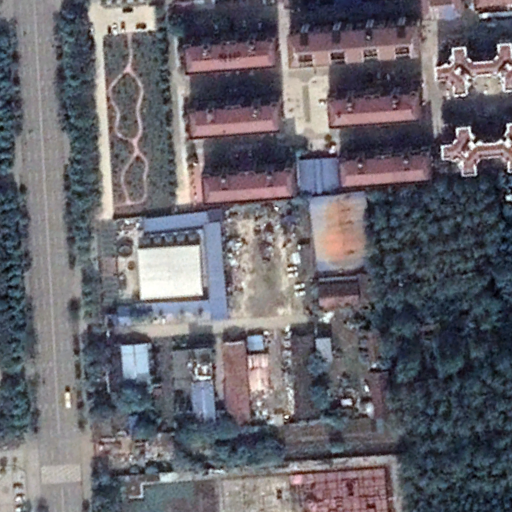msw: (225, 209, 283, 291)
